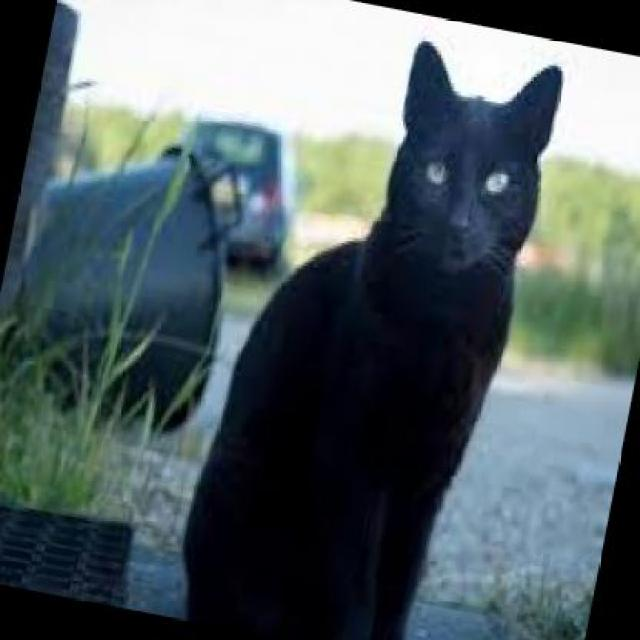animals: (169, 0, 589, 638)
